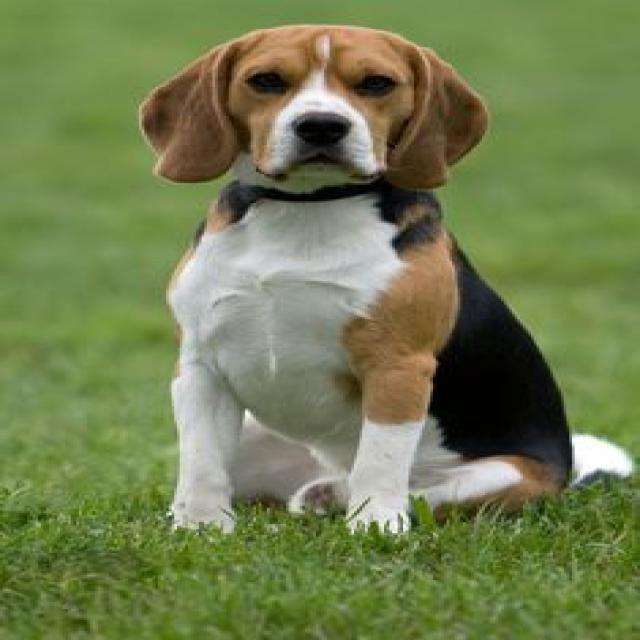Carnivorous: (136, 25, 632, 537)
